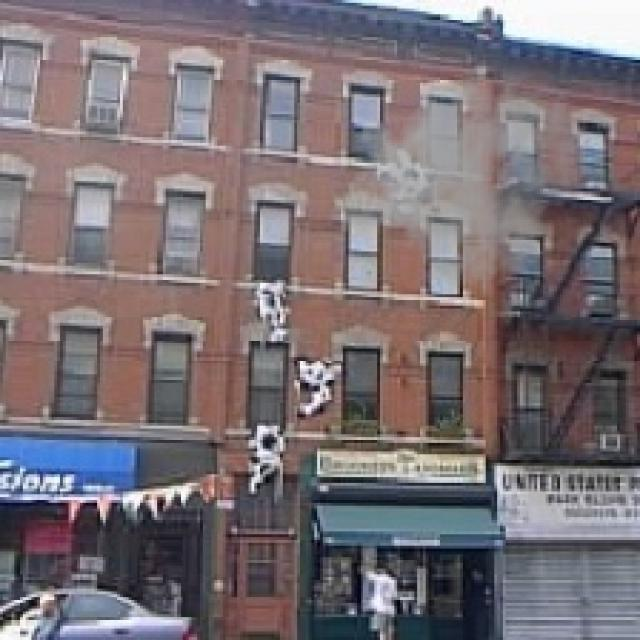Smoke: (339, 51, 592, 298)
